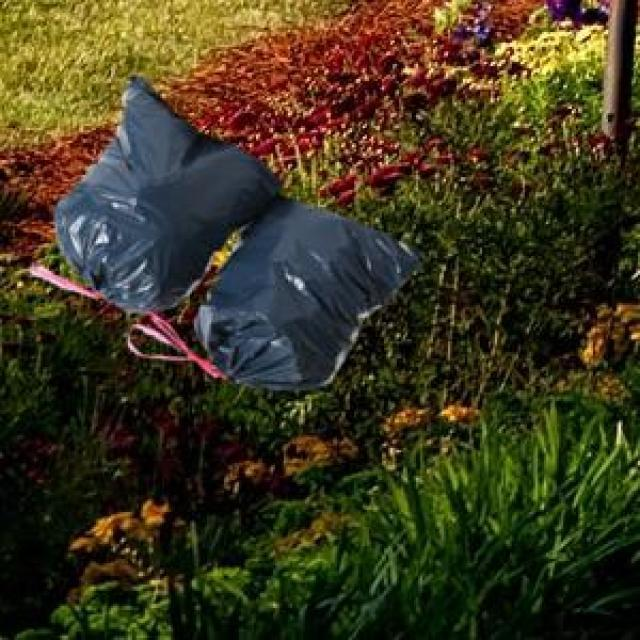Vinyl: (56, 80, 415, 389)
